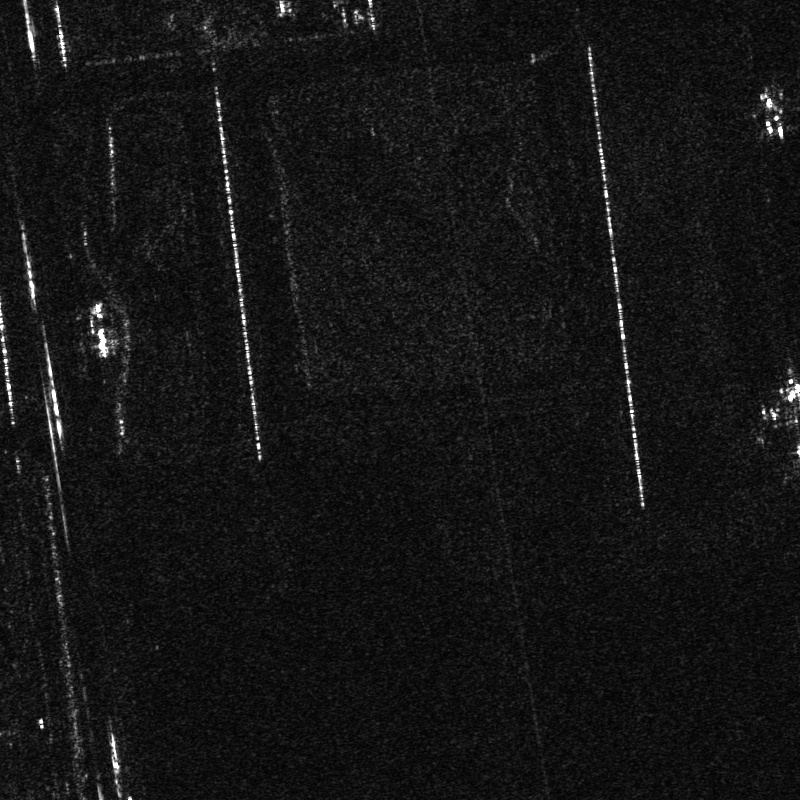A220: (729, 75, 799, 149)
other: (734, 355, 799, 487)
